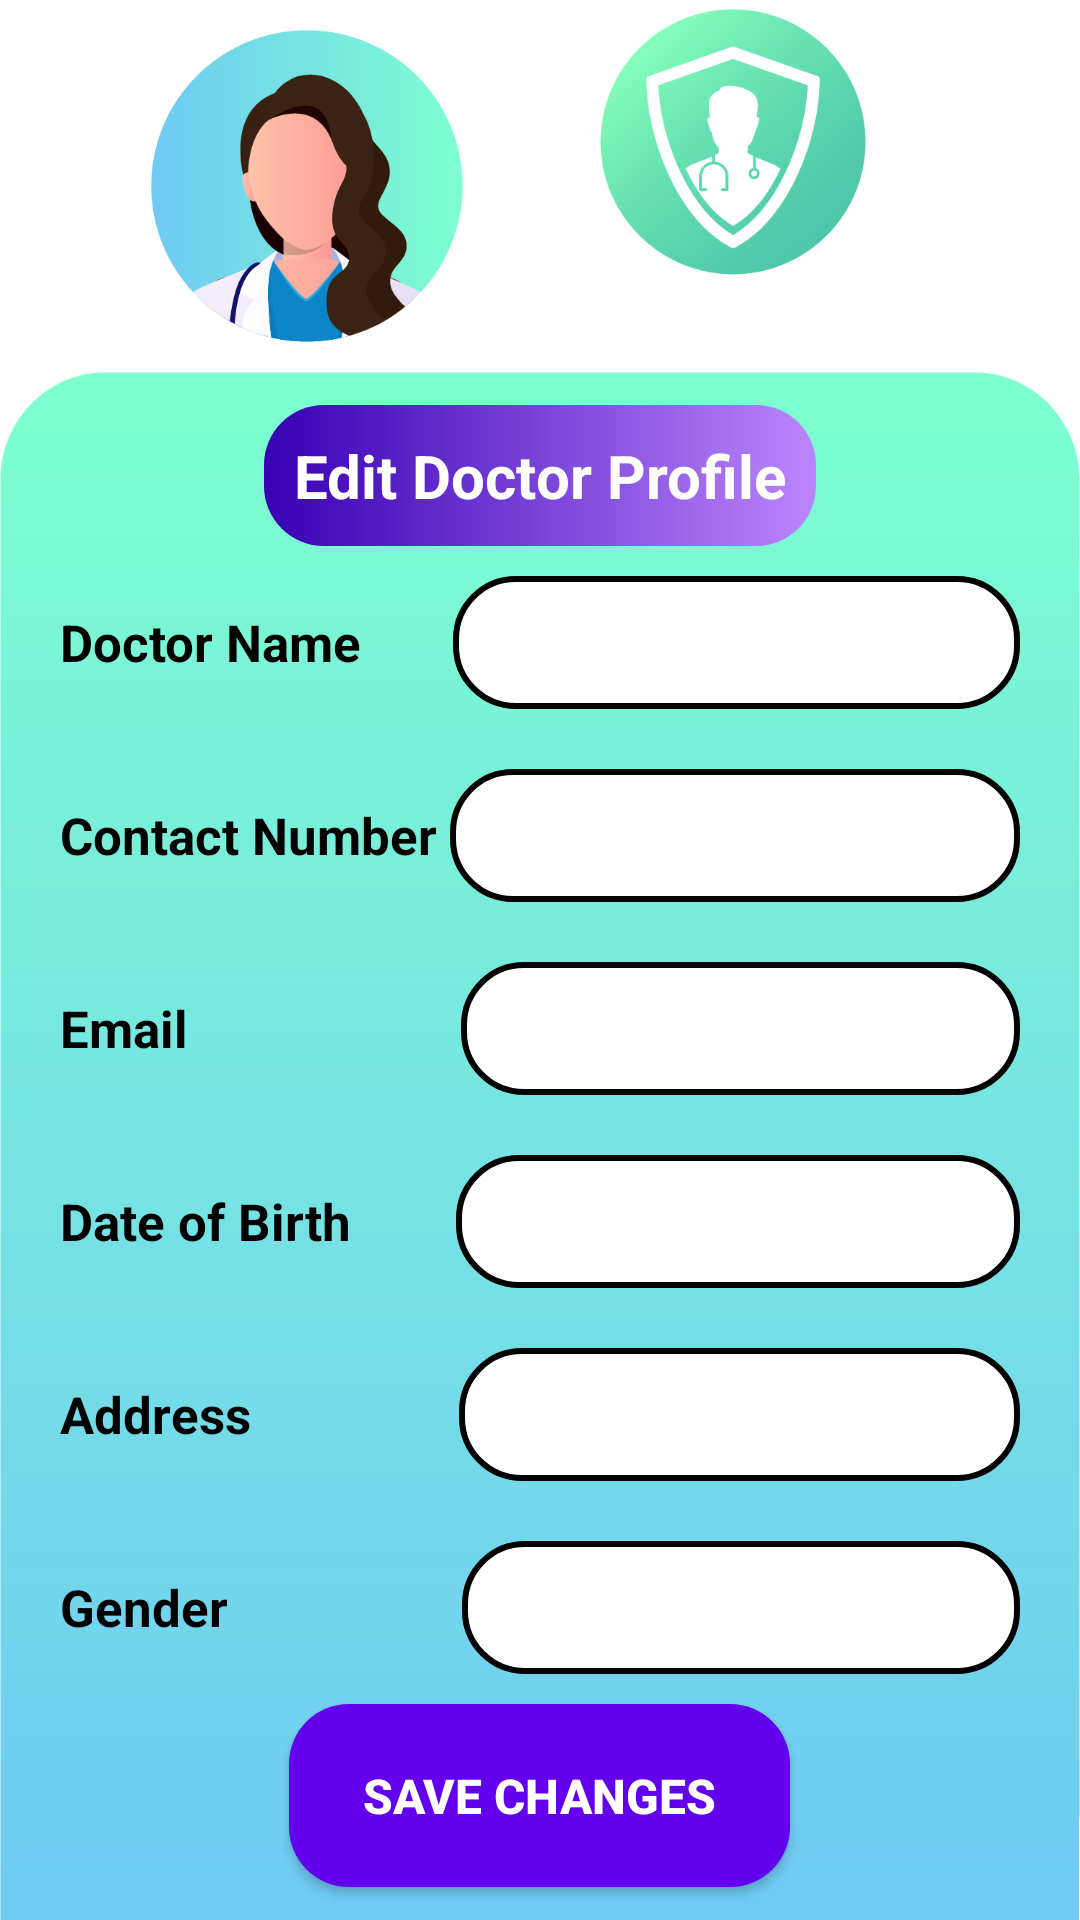

Icon click points for this 1080 × 1920 phone screenshot, format (x=x, y=y):
doca: (x=307, y=186)
